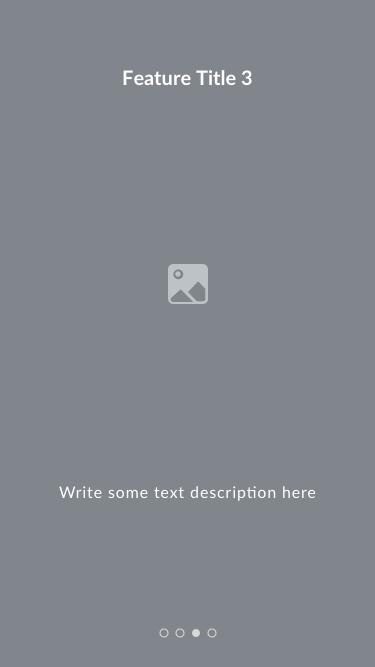Image: (168, 264, 209, 305)
PageIndicator: (159, 627, 217, 639)
Text: (60, 484, 316, 502), (123, 70, 253, 87)
